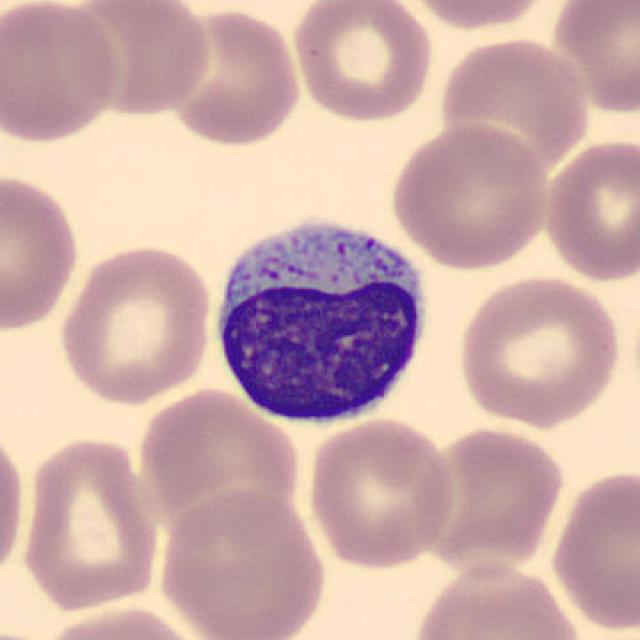Lymphocyte: (202, 204, 434, 432)
RBC: (453, 270, 626, 430), (153, 485, 331, 640), (133, 384, 304, 543), (55, 240, 217, 407), (18, 432, 162, 615), (386, 120, 553, 271), (302, 414, 459, 572), (416, 423, 567, 577), (436, 33, 594, 180), (160, 3, 306, 150), (53, 0, 215, 120), (288, 0, 437, 125), (0, 0, 126, 146), (546, 464, 638, 636), (539, 134, 638, 286), (406, 559, 588, 640), (0, 167, 84, 335), (546, 0, 640, 120), (32, 603, 208, 640), (399, 0, 556, 33), (0, 421, 30, 587)
